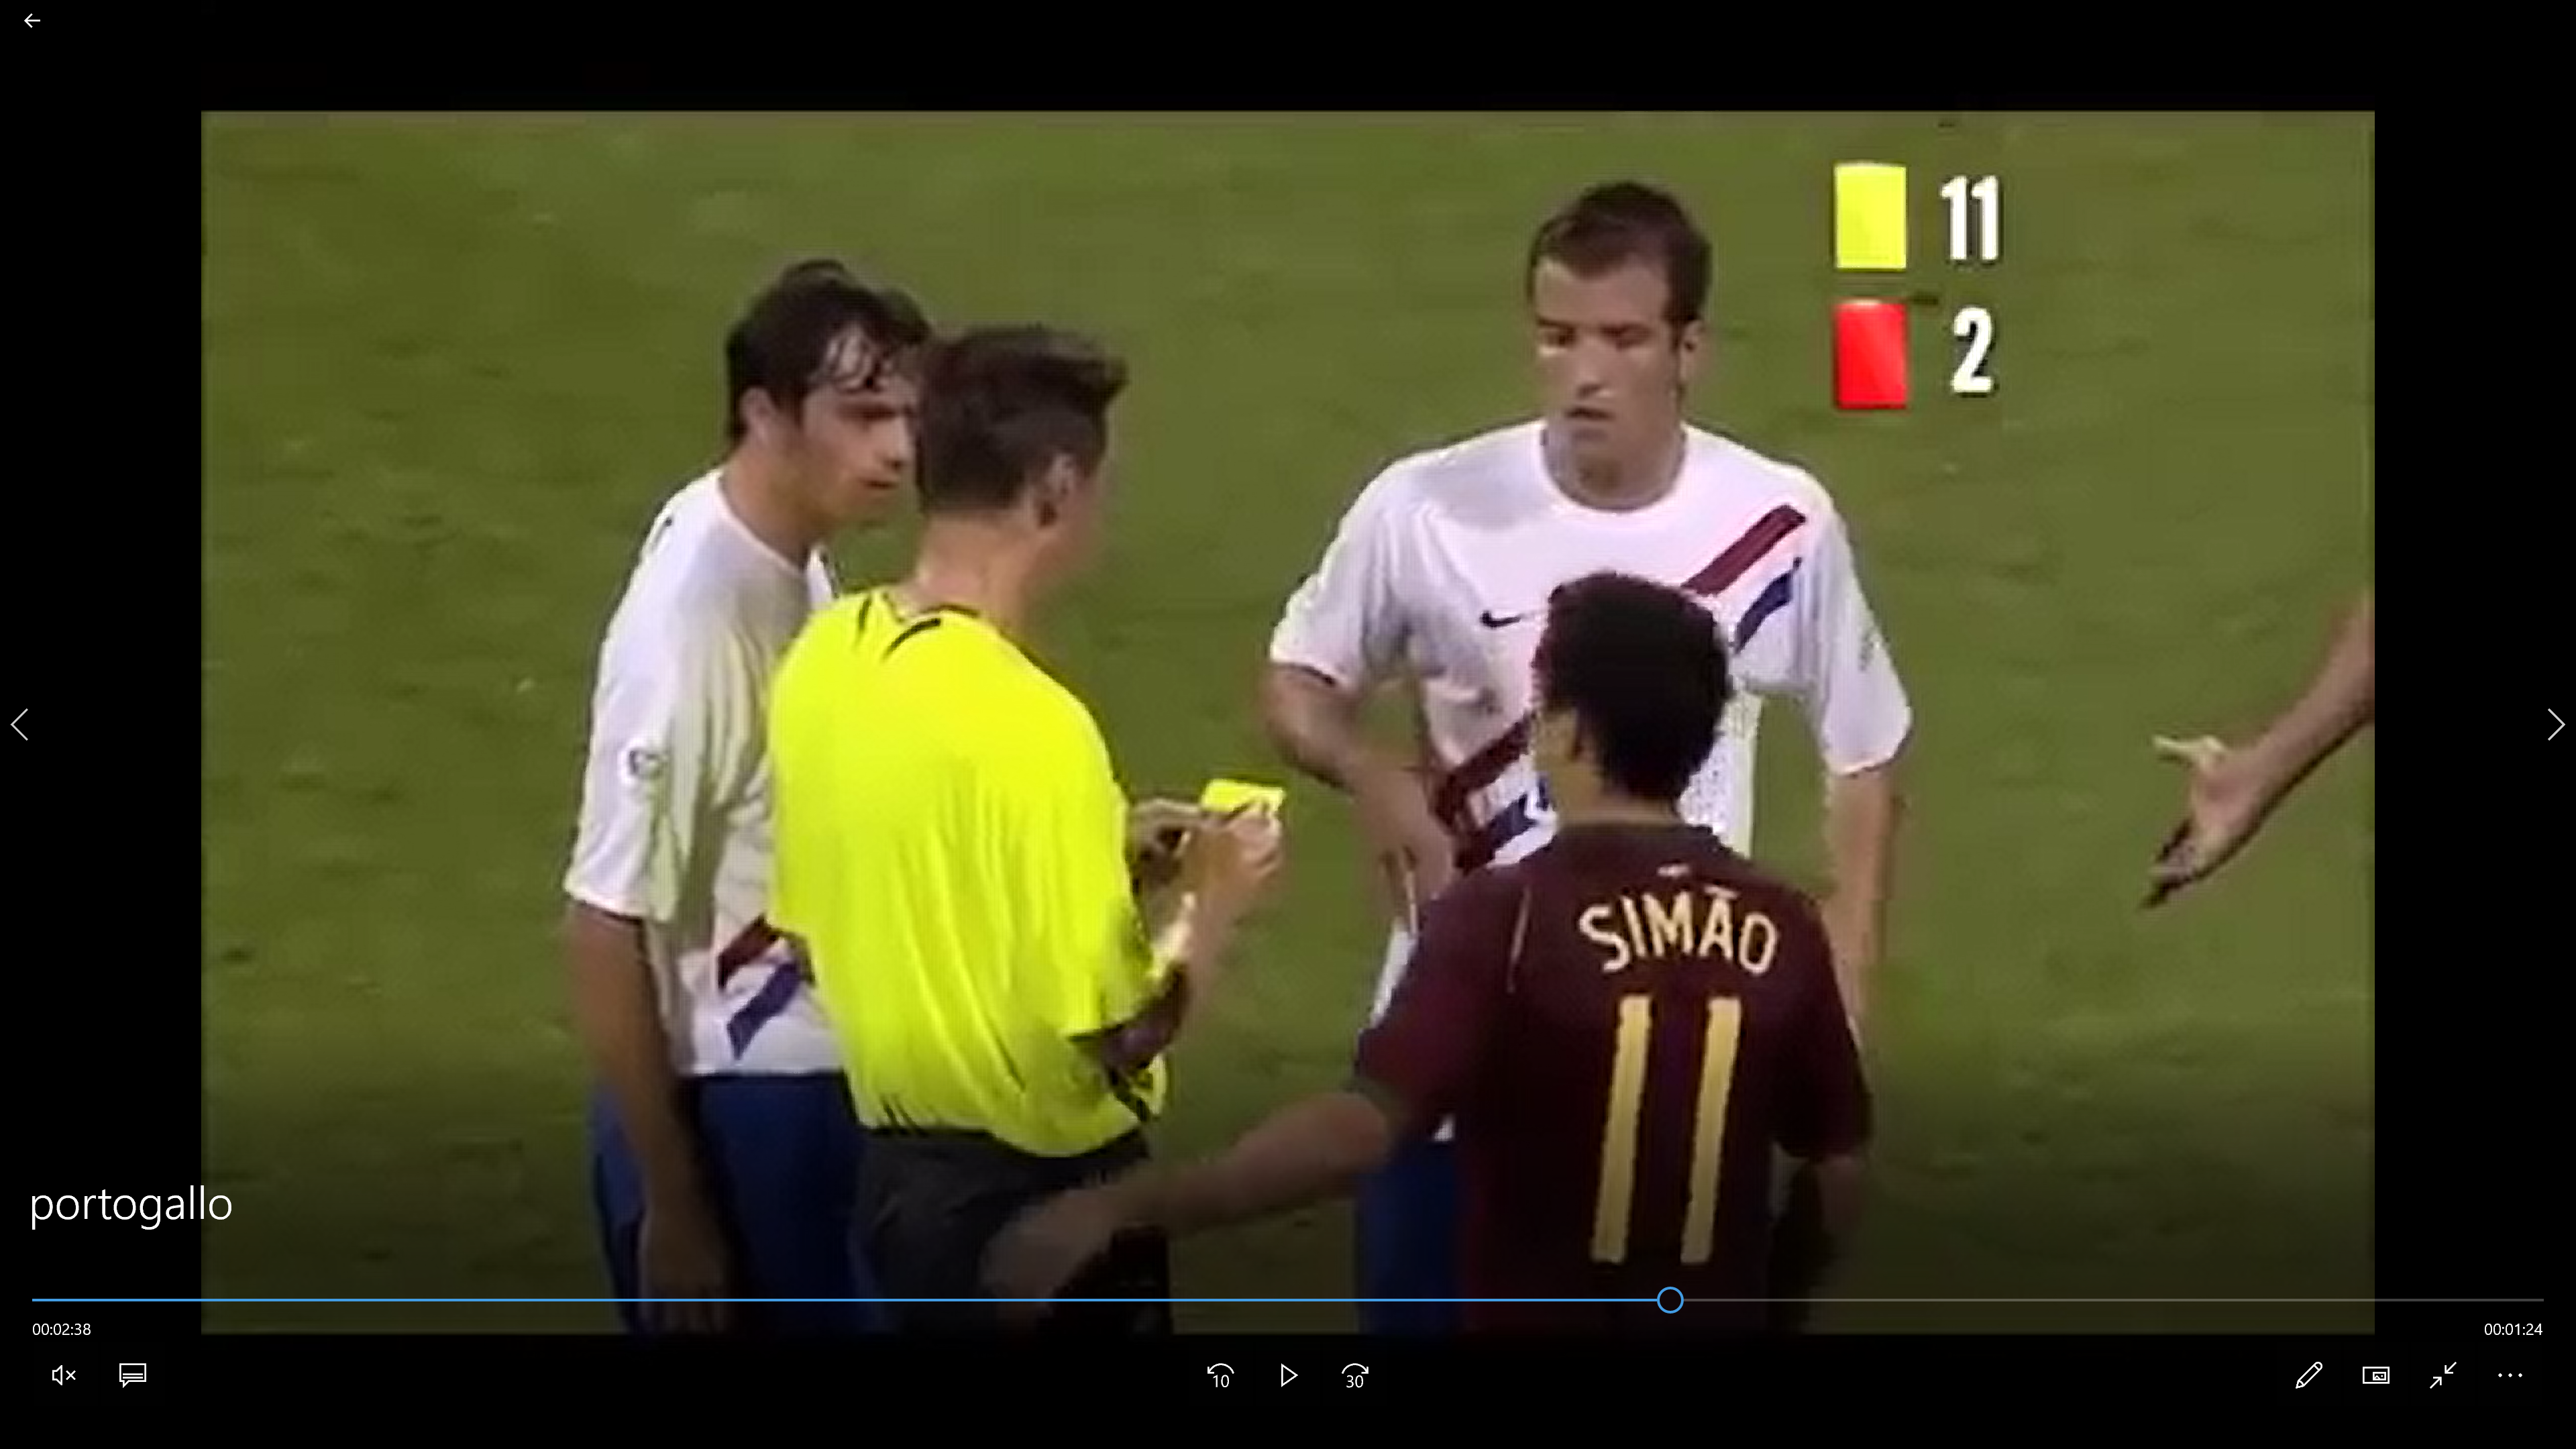yellow_card: (1177, 752, 1302, 916)
